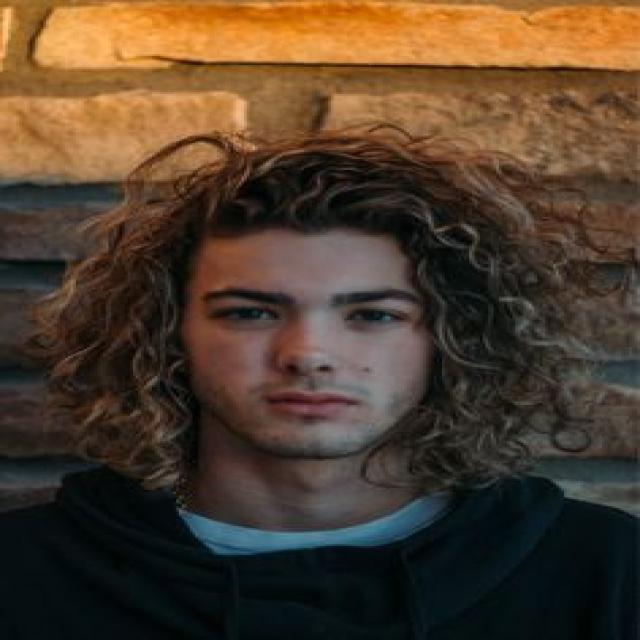mobile_phonerotation: (0, 121, 637, 638)
